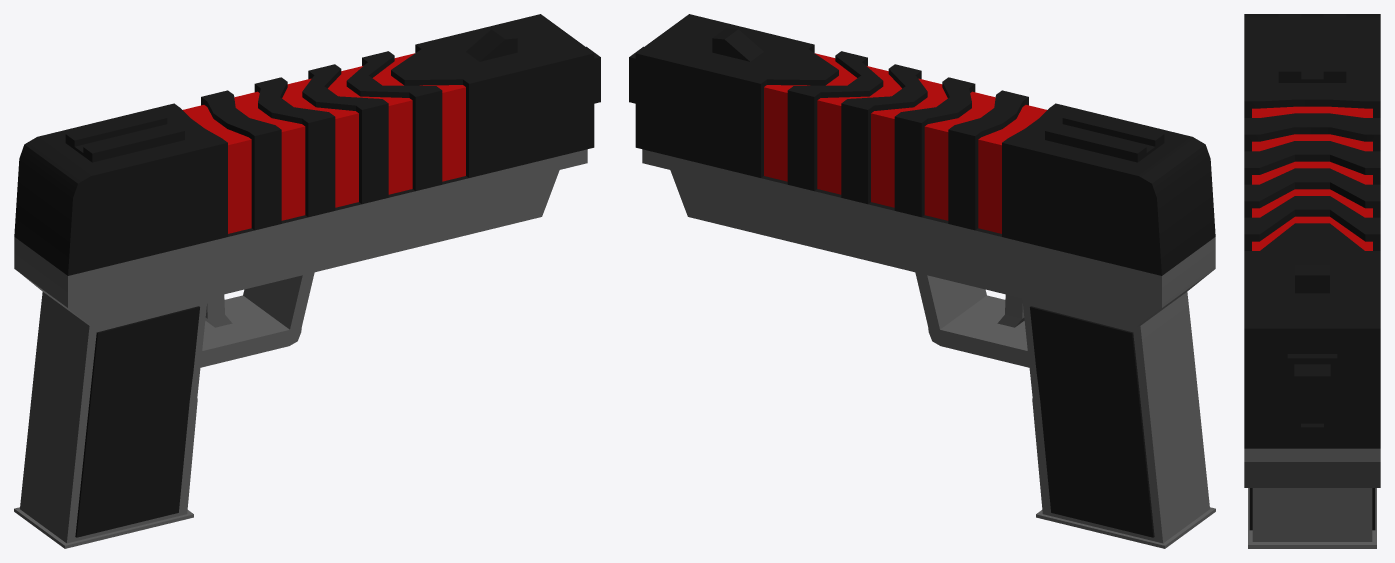
File: pistola.fbx
3 renders of one model, left to right at view 1: azimuth 30°, elevation 25°; view 2: azimuth 150°, elevation 25°; view 3: azimuth 270°, elevation 25°, orthographic. The views are drawn at different scales.
Parts seen in each view (by area): view 1: Box001; view 2: Box001; view 3: Box001.
Part boxes in pixels (x1=…): Box001: x1=14, y1=14, x2=600, y2=548; Box001: x1=629, y1=14, x2=1215, y2=548; Box001: x1=1244, y1=14, x2=1380, y2=548.
Bounding box in the file's own units: 93.18 × 61.71 × 15.65.
